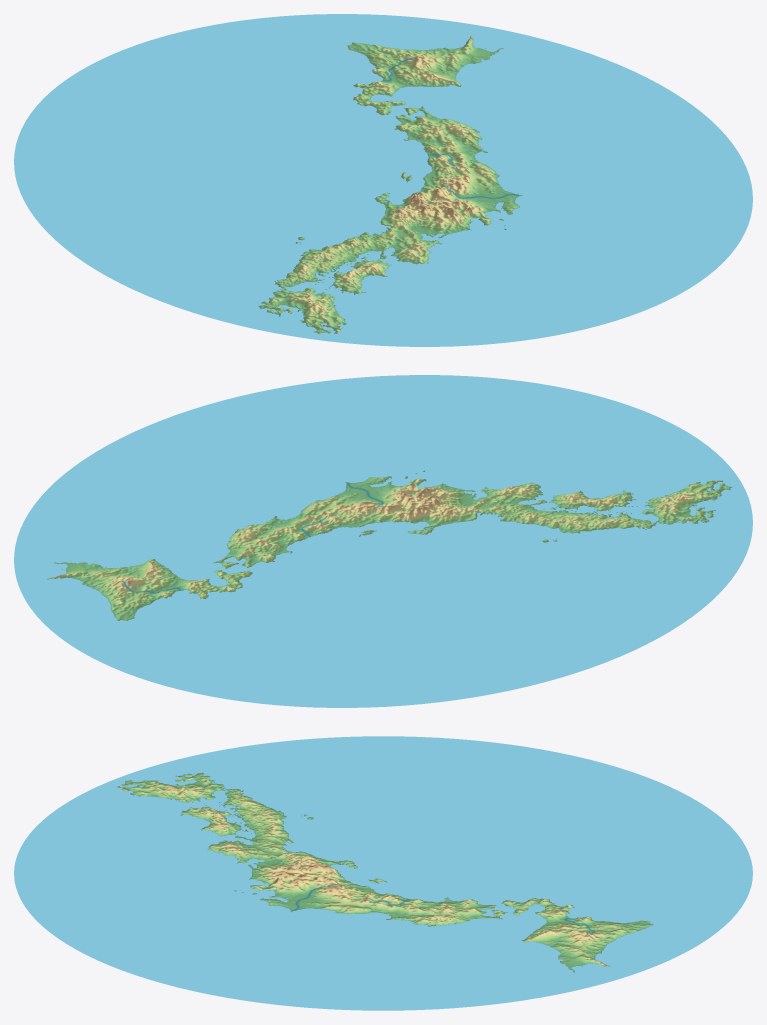
The model's file is JPN-terrain.glb.
3 views of the same model, one above another, from view 1: azimuth 30°, elevation 25°; view 2: azimuth 150°, elevation 25°; view 3: azimuth 270°, elevation 25° (orthographic). The views are drawn at different scales.
Visible parts, largest first — view 1: Relevo com hidrografia; view 2: Relevo com hidrografia; view 3: Relevo com hidrografia.
Part boxes in pixels (x1,y1,x2,y2): Relevo com hidrografia: (14,14,752,346); Relevo com hidrografia: (14,375,752,707); Relevo com hidrografia: (14,736,752,1010).
Size of the model in its own units: 1.94 by 0.029 by 2.21.
2 materials, 1 textured.
